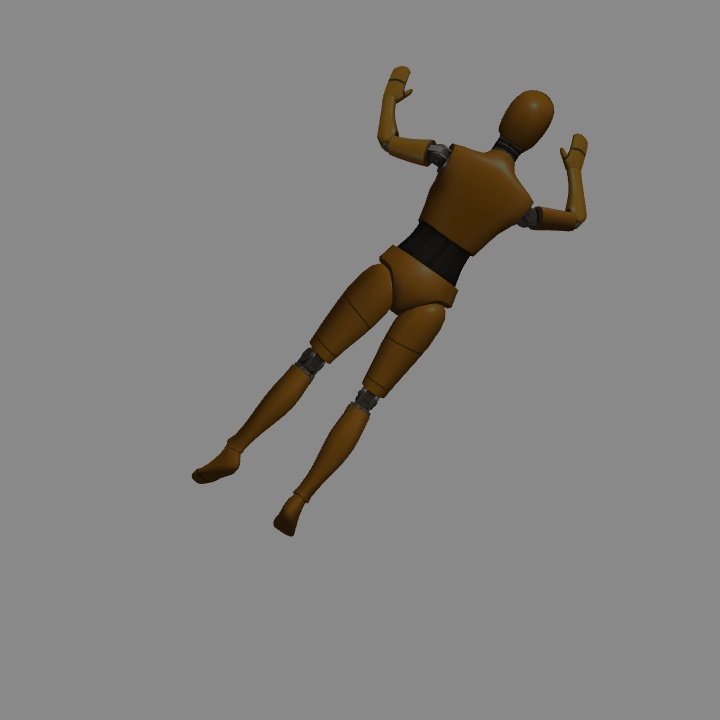victim: (190, 90, 587, 536)
